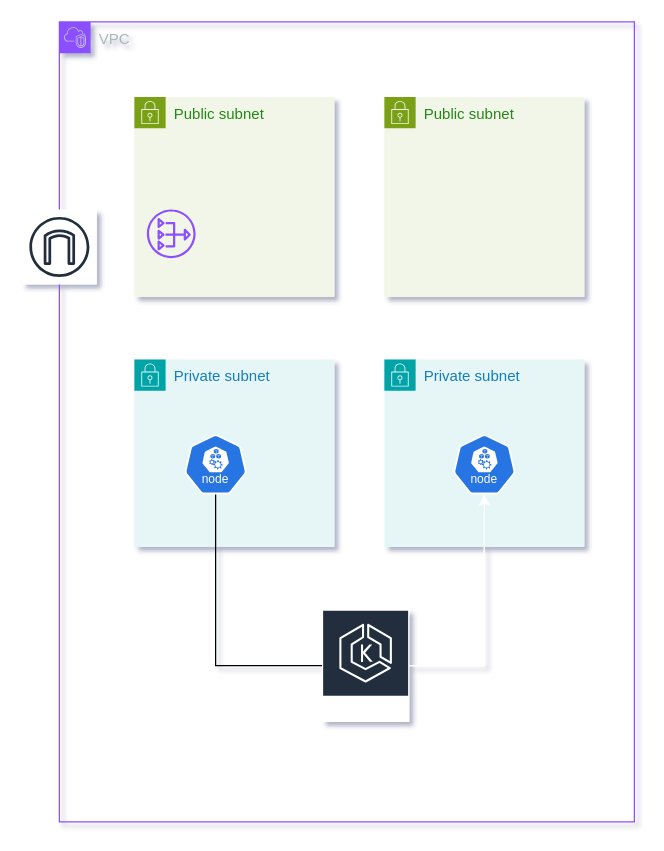
This 664x851 diagram has some shape labels left out. Each missing label, with the centre of its shape:
"Amazon EKS" goes at point 365,665.
"Internet gateway" goes at point 59,246.
"NAT Gateway" goes at point 170,233.
